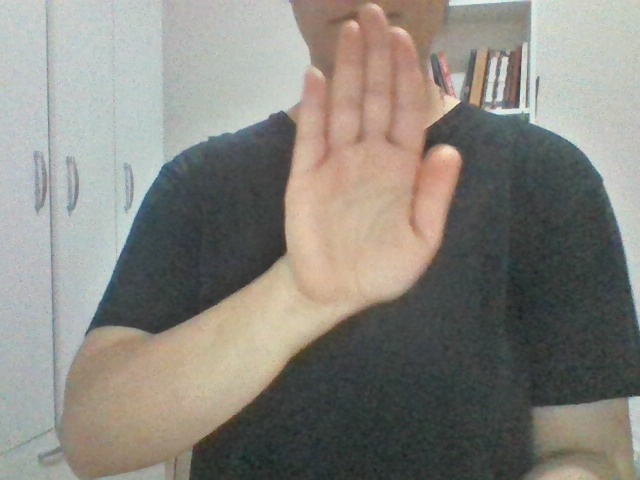Hello: (223, 1, 482, 324)
